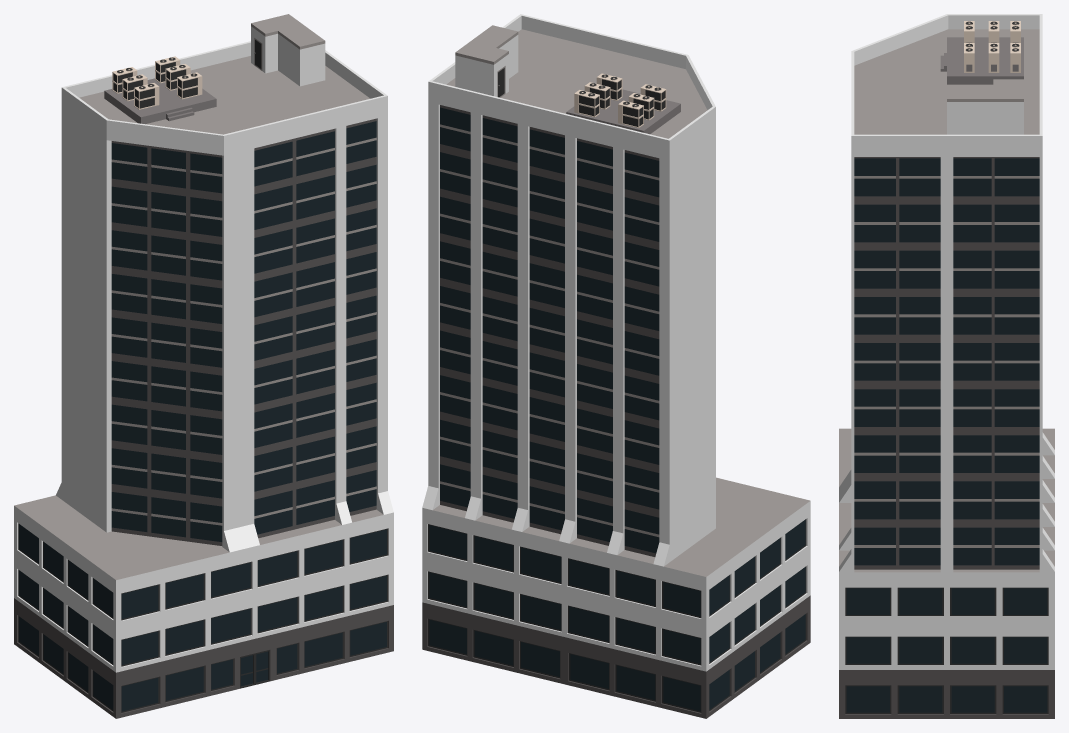
Rendered from company.1205c83f.glb.
3 renders of one model, left to right at view 1: azimuth 30°, elevation 25°; view 2: azimuth 150°, elevation 25°; view 3: azimuth 270°, elevation 25°, orthographic. The views are drawn at different scales.
Visible parts, largest first — view 1: building-office; view 2: building-office; view 3: building-office.
Boxes of the visible parts, x1=… form: building-office: x1=14, y1=14, x2=393, y2=718; building-office: x1=422, y1=14, x2=810, y2=718; building-office: x1=839, y1=14, x2=1054, y2=718.
Bounding box in the file's own units: 22 × 43.7 × 14.
